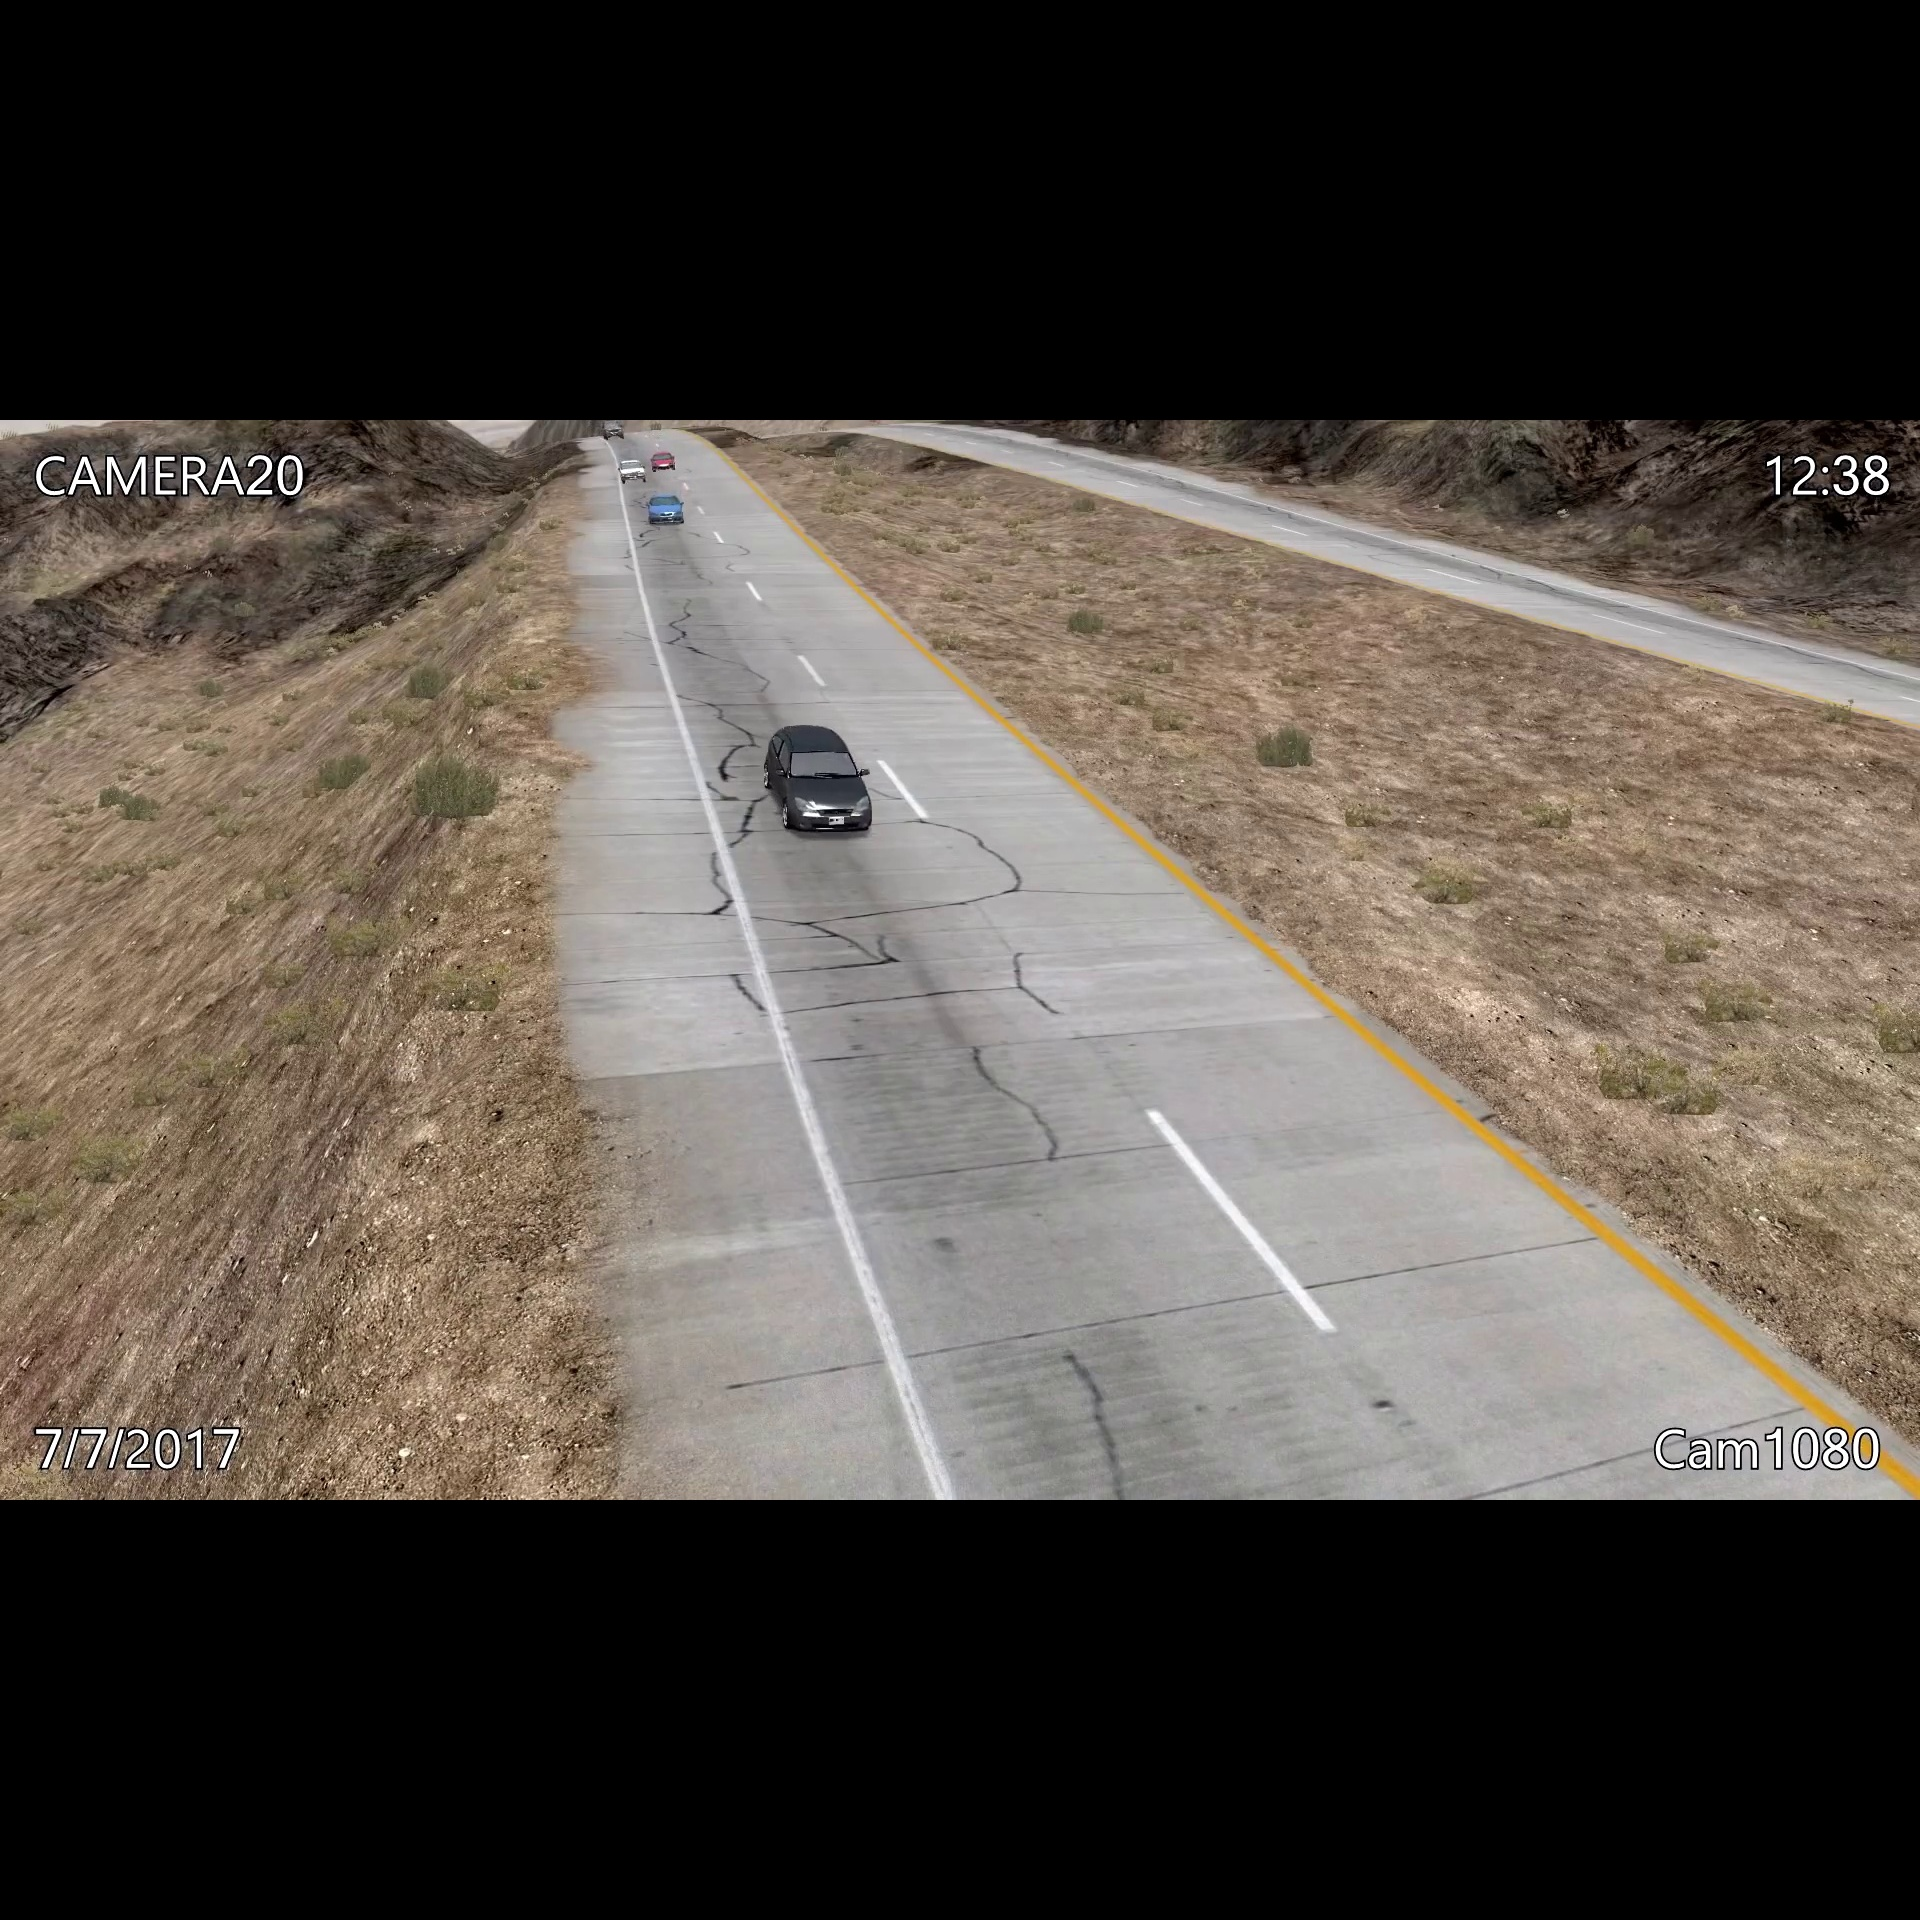vehicle: (760, 719, 877, 842), (642, 489, 684, 527), (615, 455, 647, 485), (651, 452, 675, 473), (601, 420, 624, 440)
